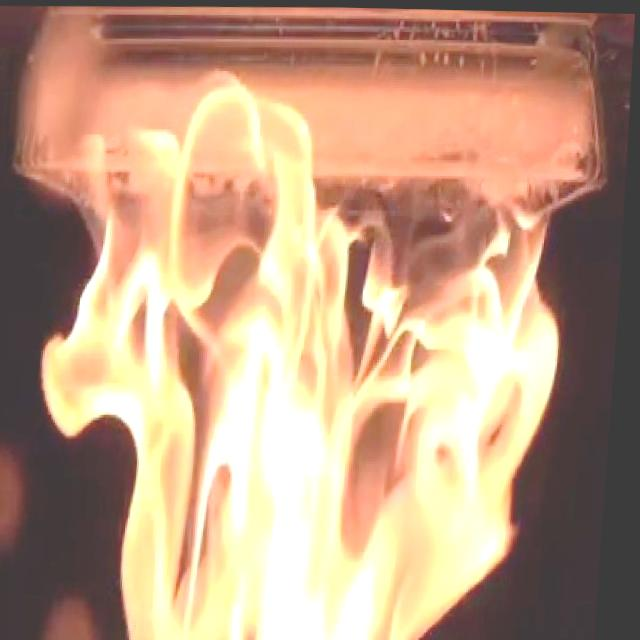Fire: (21, 67, 584, 640)
